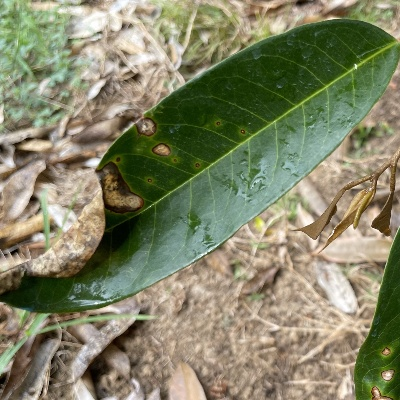Leaf_Phomopsis: (1, 15, 400, 318)
